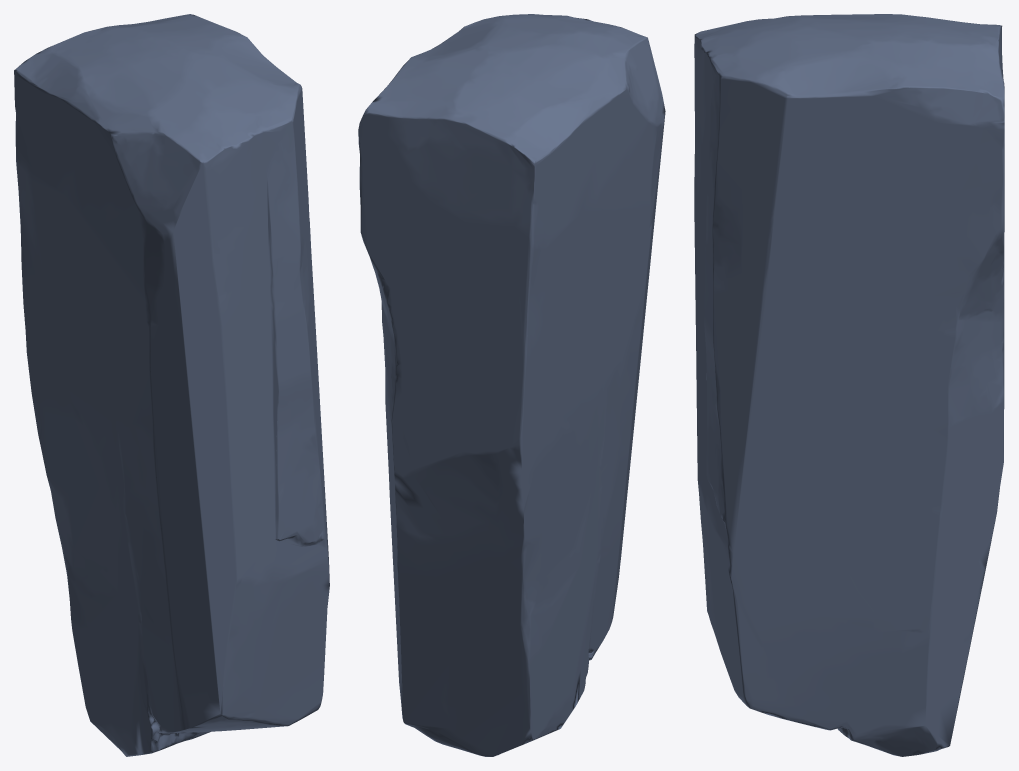
3 renders of one model, left to right at view 1: azimuth 30°, elevation 25°; view 2: azimuth 150°, elevation 25°; view 3: azimuth 270°, elevation 25°, orthographic. The views are drawn at different scales.
Parts seen in each view (by area): view 1: SM_GF_Cliff_02_LOD0; view 2: SM_GF_Cliff_02_LOD0; view 3: SM_GF_Cliff_02_LOD0.
Part boxes in pixels (box(x1,y1,x2,y2)): SM_GF_Cliff_02_LOD0: box(14, 14, 329, 756); SM_GF_Cliff_02_LOD0: box(358, 14, 665, 756); SM_GF_Cliff_02_LOD0: box(694, 14, 1004, 756).
Size of the model in its own units: 11.51 by 42.58 by 16.97.
